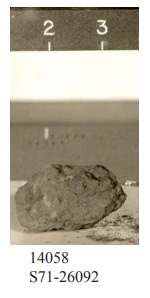Breccia: (8, 143, 127, 237)
